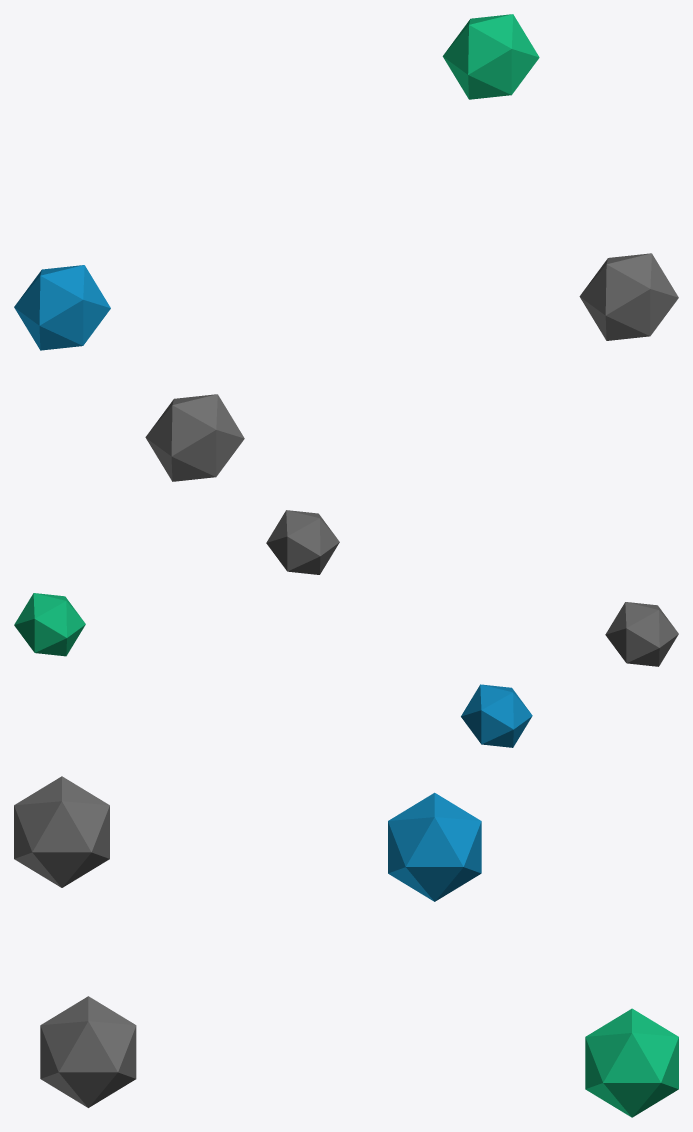
3 renders of one model, top to bottom at view 1: azimuth 30°, elevation 25°; view 2: azimuth 150°, elevation 25°; view 3: azimuth 270°, elevation 25°, orthographic. The views are drawn at different scales.
Visible parts, largest first — view 1: 03_08_00; view 2: 03_08_00; view 3: 03_08_00.
Boxes of the visible parts, left/top/right/bottom form: 03_08_00: left=14, top=14, right=678, bottom=481; 03_08_00: left=14, top=510, right=678, bottom=747; 03_08_00: left=14, top=776, right=678, bottom=1117.
Bounding box in the file's own units: 0.47 × 0.1009 × 0.3851.
